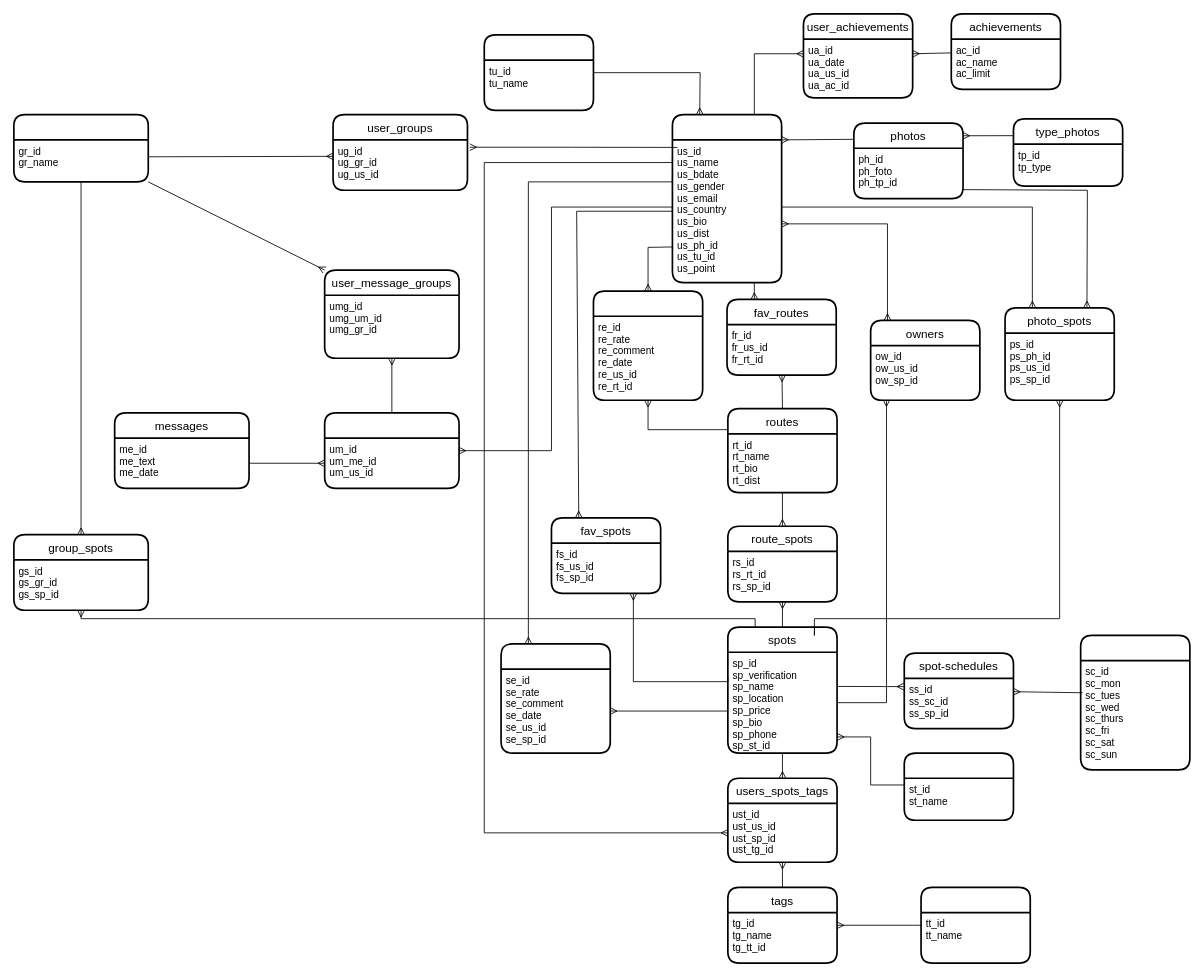
Some shapes in this 1204 by 977 pixel diagram are drawn without their labels. Each missing label, with the box of its shape:
groups: (13, 113, 149, 182)
route_evaluations: (592, 290, 703, 401)
schedules: (1079, 634, 1190, 770)
spot_evaluations: (500, 643, 611, 753)
spots_type: (903, 752, 1014, 821)
tag_types: (920, 886, 1031, 963)
type_users: (483, 34, 594, 111)
user_messages: (323, 412, 459, 489)
users: (671, 113, 782, 283)
